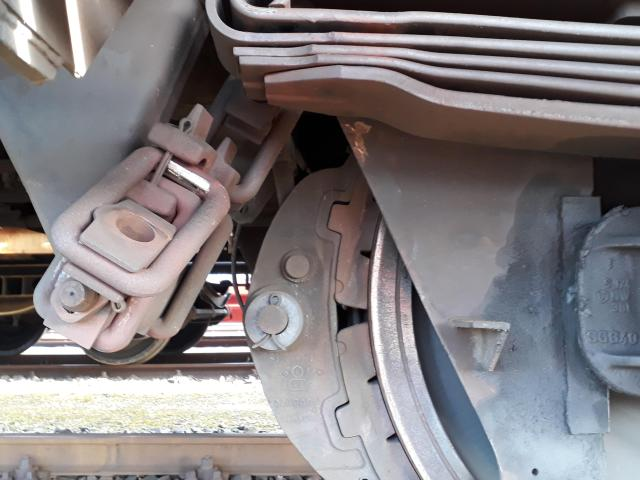blattfederww: (185, 4, 640, 136)
